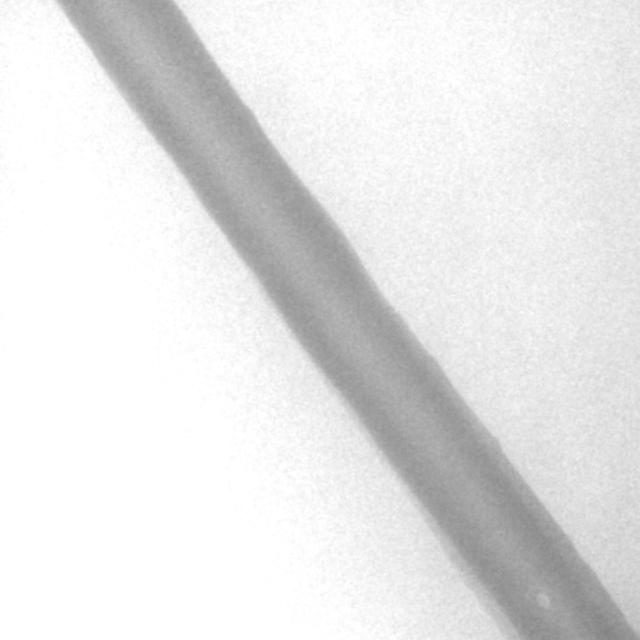air hole: (537, 591, 550, 608)
